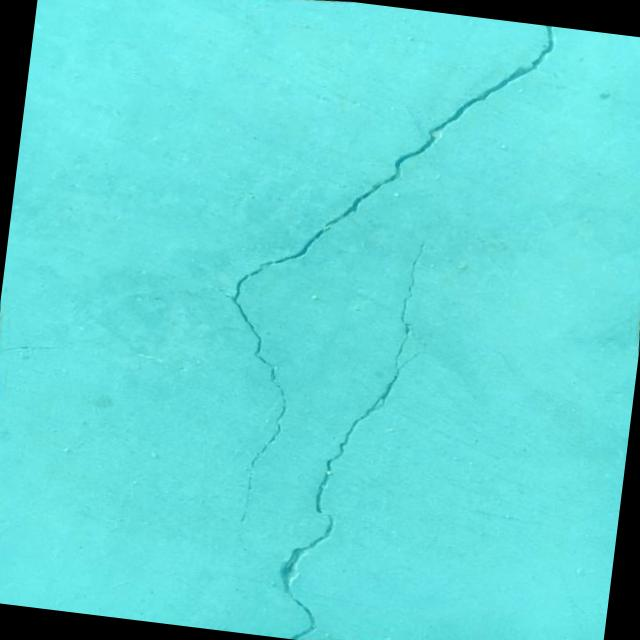crack: (108, 0, 593, 563), (248, 226, 460, 640), (0, 316, 154, 371)
